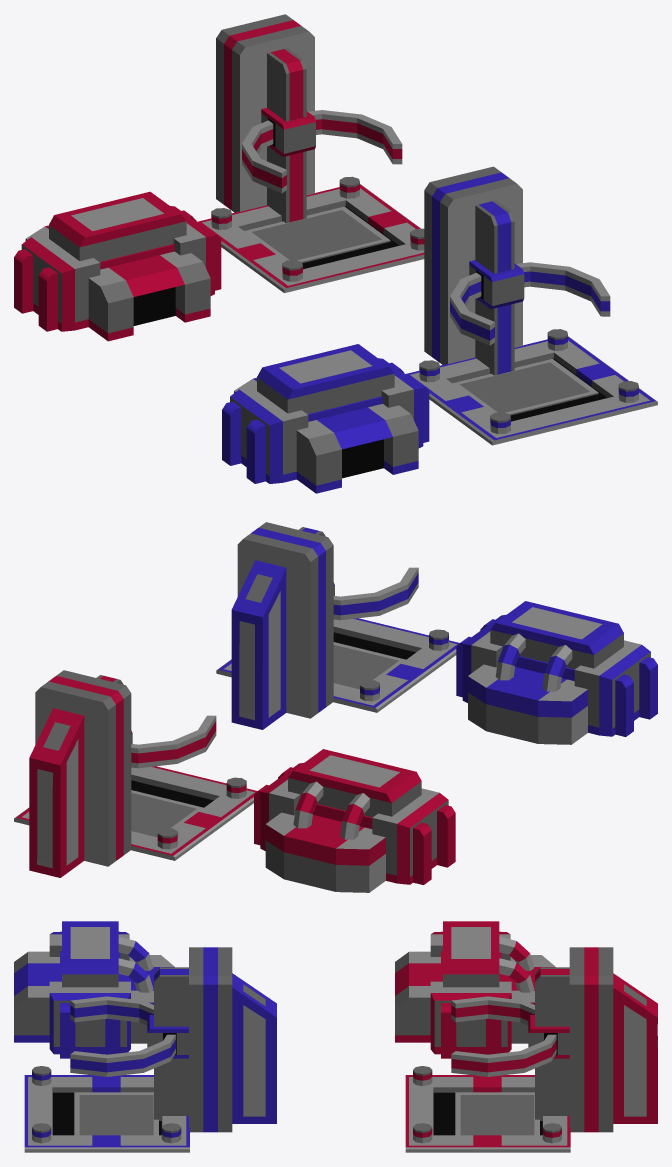
Rendered from New Buildings.fbx.
3 renders of one model, top to bottom at view 1: azimuth 30°, elevation 25°; view 2: azimuth 150°, elevation 25°; view 3: azimuth 270°, elevation 25°, orthographic. The views are drawn at different scales.
Visible parts, largest first — view 1: FactoryBase (×2), Building_InfantryFactory_Red, Building_InfantryFactory_Blue, ArmLift (×2), LiftPlatform (×2); view 2: FactoryBase (×2), Building_InfantryFactory_Red, Building_InfantryFactory_Blue, ArmLift (×2), LiftPlatform (×2); view 3: FactoryBase (×2), Building_InfantryFactory_Blue, Building_InfantryFactory_Red, ArmLift (×2), LiftPlatform (×2).
Boxes of the visible parts, x1=… form: FactoryBase (×2): x1=197, y1=14, x2=657, y2=445; Building_InfantryFactory_Red: x1=14, y1=191, x2=221, y2=341; Building_InfantryFactory_Blue: x1=222, y1=344, x2=429, y2=493; ArmLift (×2): x1=242, y1=108, x2=610, y2=345; LiftPlatform (×2): x1=244, y1=206, x2=598, y2=415; FactoryBase (×2): x1=14, y1=522, x2=459, y2=877; Building_InfantryFactory_Red: x1=254, y1=749, x2=455, y2=892; Building_InfantryFactory_Blue: x1=456, y1=601, x2=657, y2=744; ArmLift (×2): x1=131, y1=567, x2=418, y2=768; LiftPlatform (×2): x1=131, y1=642, x2=405, y2=837; FactoryBase (×2): x1=24, y1=947, x2=657, y2=1152; Building_InfantryFactory_Blue: x1=14, y1=921, x2=174, y2=1058; Building_InfantryFactory_Red: x1=395, y1=921, x2=555, y2=1058; ArmLift (×2): x1=70, y1=996, x2=569, y2=1076; LiftPlatform (×2): x1=74, y1=1092, x2=539, y2=1135.
Size of the model in its own units: 718 by 305 by 1141.
